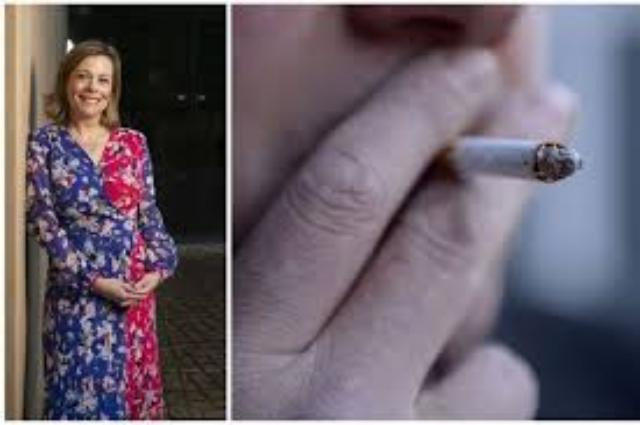Smoking: (411, 138, 584, 182)
